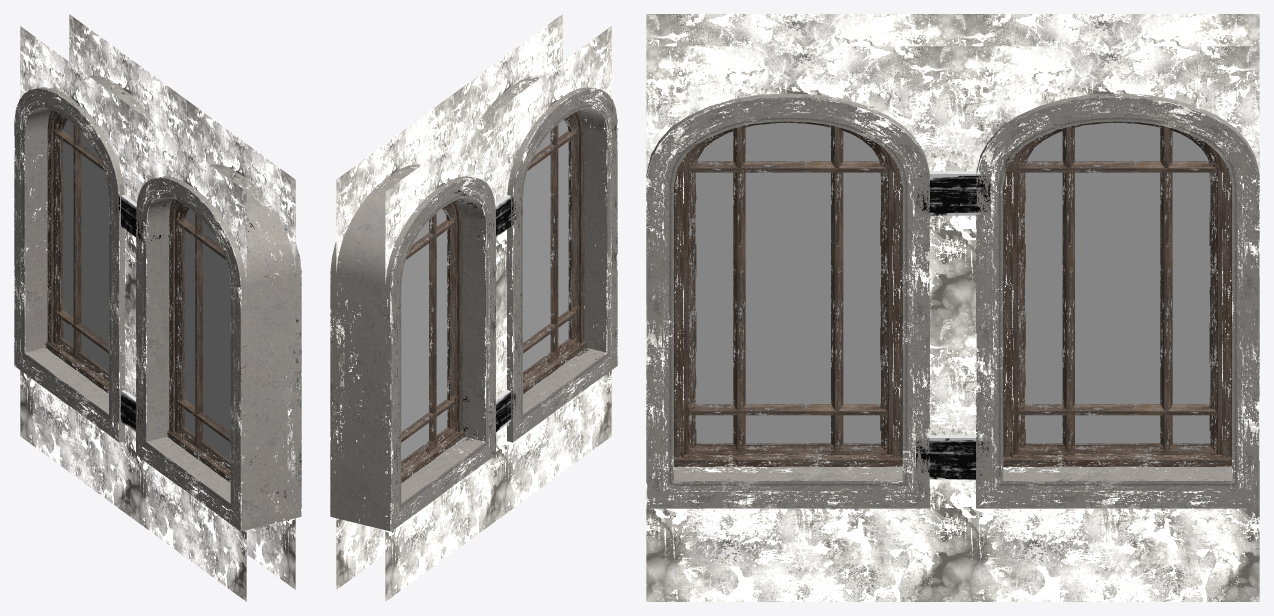
File: SM_wall_A_window_4x4_02_03.fbx
The picture shows the model from 3 angles, left to right: view 1: azimuth 30°, elevation 25°; view 2: azimuth 150°, elevation 25°; view 3: azimuth 270°, elevation 25°; orthographic projection. The views are drawn at different scales.
Parts seen in each view (by area): view 1: SM_wall_A_window_4x4_02_03_LOD0; view 2: SM_wall_A_window_4x4_02_03_LOD0; view 3: SM_wall_A_window_4x4_02_03_LOD0.
Part boxes in pixels (x1,y1,x2,y2): SM_wall_A_window_4x4_02_03_LOD0: [14, 14, 301, 601]; SM_wall_A_window_4x4_02_03_LOD0: [330, 14, 617, 601]; SM_wall_A_window_4x4_02_03_LOD0: [646, 14, 1259, 601].
Size of the model in its own units: 62.17 by 400 by 400.
Materials: 6 (5 with a texture image).
